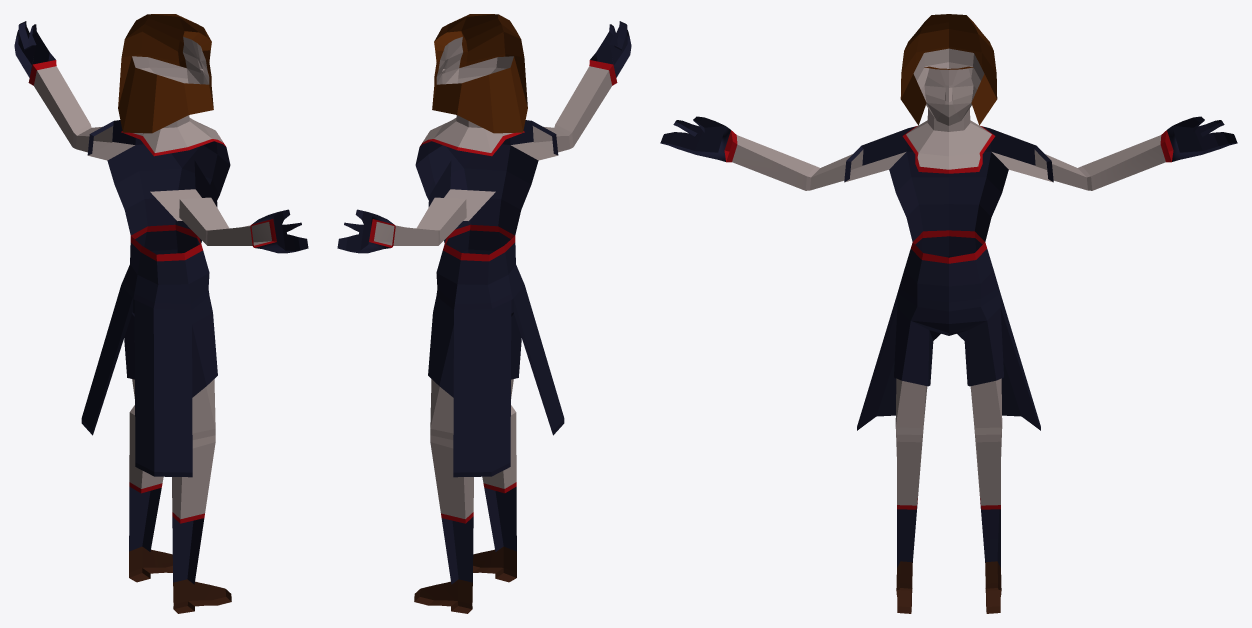
File: femaleCharacter.glb
The picture shows the model from 3 angles, left to right: view 1: azimuth 30°, elevation 25°; view 2: azimuth 150°, elevation 25°; view 3: azimuth 270°, elevation 25°; orthographic projection.
Parts seen in each view (by area): view 1: character; view 2: character; view 3: character.
Boxes of the visible parts, x1=… form: character: x1=14, y1=14, x2=308, y2=613; character: x1=337, y1=14, x2=631, y2=613; character: x1=660, y1=14, x2=1237, y2=613.
Bounding box in the file's own units: 1.42 × 7.58 × 6.91.
